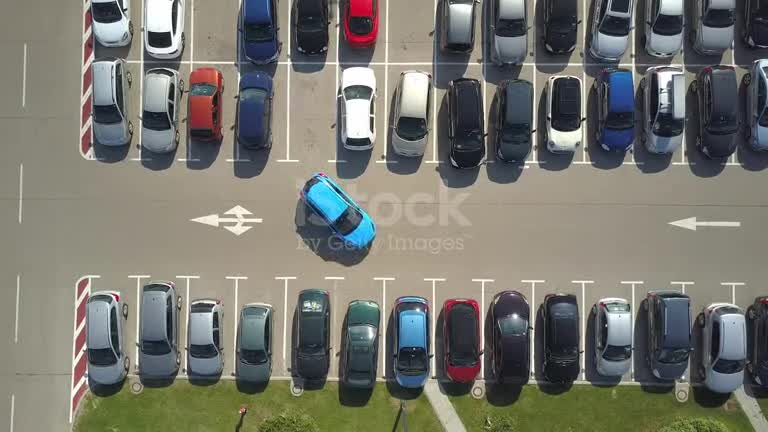car: (300, 172, 375, 248), (691, 65, 740, 157), (697, 303, 746, 392), (643, 290, 691, 380), (85, 291, 129, 385), (138, 282, 181, 378), (640, 66, 686, 153), (490, 291, 530, 384), (91, 58, 132, 145), (141, 68, 183, 152), (393, 296, 431, 387), (391, 70, 431, 156), (341, 300, 380, 388), (446, 78, 484, 168), (542, 293, 580, 382), (293, 289, 330, 380), (594, 68, 634, 151), (443, 299, 482, 382), (495, 79, 533, 161), (593, 298, 632, 376), (235, 303, 273, 383), (545, 75, 583, 152), (340, 67, 375, 150), (236, 71, 273, 148), (187, 299, 223, 375), (488, 0, 529, 64), (590, 0, 633, 61), (240, 0, 281, 63), (188, 67, 223, 140), (691, 0, 736, 55), (144, 0, 185, 59), (644, 0, 684, 57), (742, 59, 767, 149), (293, 0, 330, 55), (543, 0, 580, 53), (440, 0, 477, 53), (91, 0, 133, 46), (746, 296, 767, 386), (343, 0, 378, 47), (742, 0, 767, 47)
